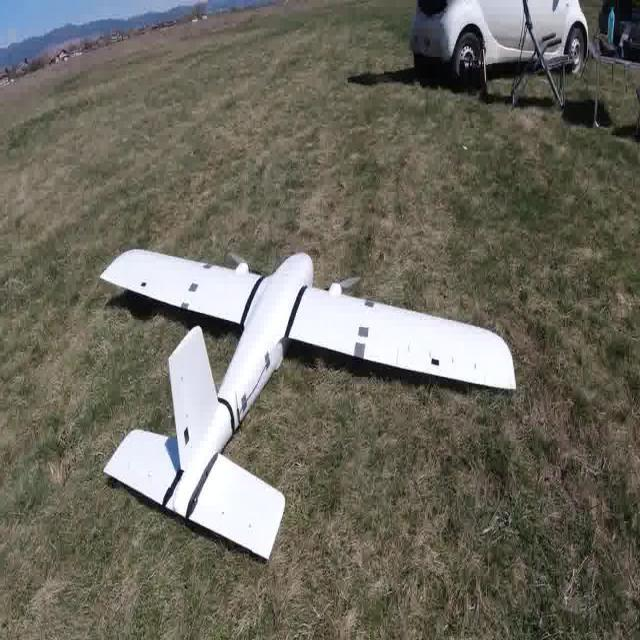iha: (85, 241, 517, 563)
